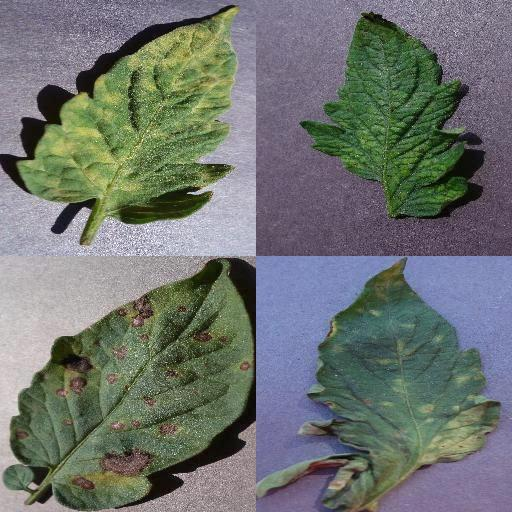Early Blight: (10, 258, 255, 512)
Leaf Mold: (299, 256, 503, 512), (18, 6, 236, 226)
Mosaic Virus: (297, 9, 471, 219)
